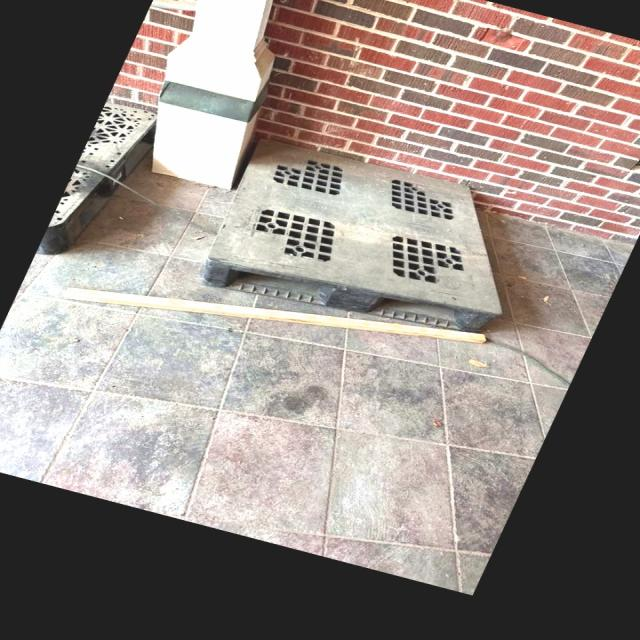non-igps: (193, 132, 510, 346), (28, 99, 160, 259)
